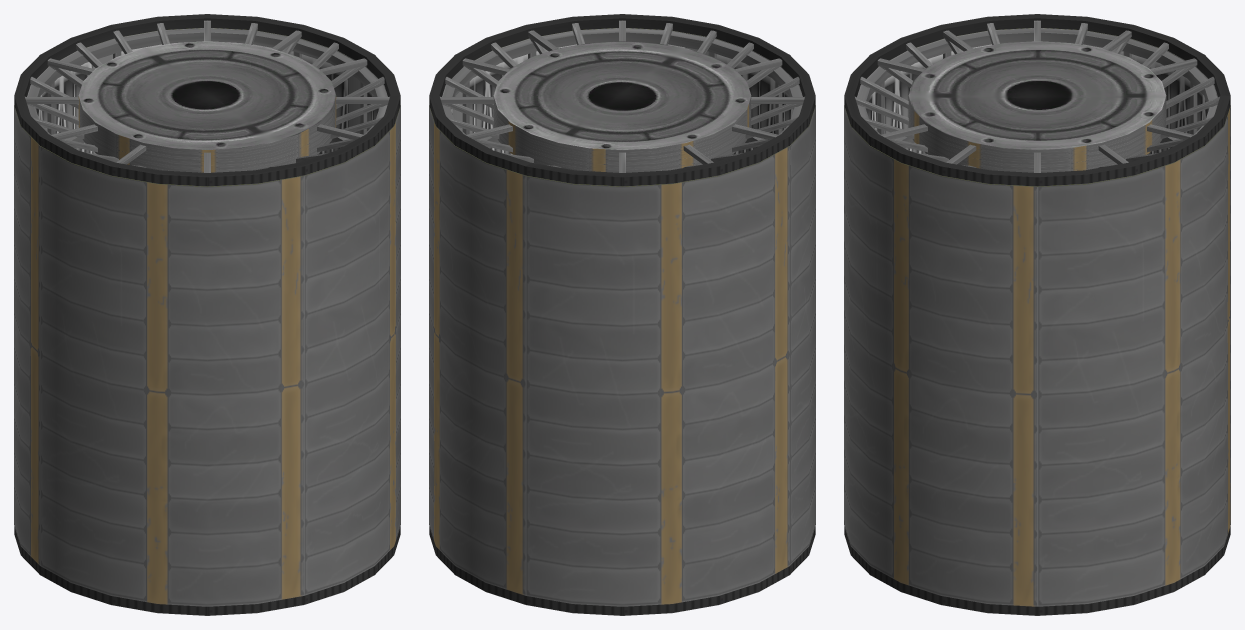
The model's file is LongInterstageAdapter.FBX.
3 views of the same model, side by side, from view 1: azimuth 30°, elevation 25°; view 2: azimuth 150°, elevation 25°; view 3: azimuth 270°, elevation 25° (orthographic).
Visible parts, largest first — view 1: ShroudTube, ThrusterPlate, Upper Support Ring, LowerSupportRing002, LowerSupportRing, Box165, Box162, Box163; view 2: ShroudTube, ThrusterPlate, Upper Support Ring, LowerSupportRing002, LowerSupportRing, Box166, Box162, Box164; view 3: ShroudTube, ThrusterPlate, Upper Support Ring, LowerSupportRing002, LowerSupportRing, Box164, Box163.
Boxes of the visible parts, x1,y1,x2,y2 form: ShroudTube: [14, 28, 400, 606]; ThrusterPlate: [78, 41, 336, 172]; Upper Support Ring: [14, 14, 400, 186]; LowerSupportRing002: [27, 28, 387, 134]; LowerSupportRing: [14, 526, 400, 615]; Box165: [25, 97, 389, 103]; Box162: [50, 58, 366, 140]; Box163: [48, 59, 364, 139]; ShroudTube: [429, 28, 815, 606]; ThrusterPlate: [493, 41, 751, 172]; Upper Support Ring: [429, 14, 815, 186]; LowerSupportRing002: [442, 28, 802, 134]; LowerSupportRing: [429, 526, 815, 615]; Box166: [440, 97, 804, 103]; Box162: [463, 58, 779, 140]; Box164: [465, 58, 781, 140]; ShroudTube: [844, 28, 1230, 606]; ThrusterPlate: [908, 41, 1166, 172]; Upper Support Ring: [844, 14, 1230, 186]; LowerSupportRing002: [857, 28, 1217, 134]; LowerSupportRing: [844, 526, 1230, 615]; Box164: [878, 58, 1194, 140]; Box163: [880, 59, 1196, 139].
Size of what is drawn, in the model's own units: 1.87 by 2.35 by 1.87.
